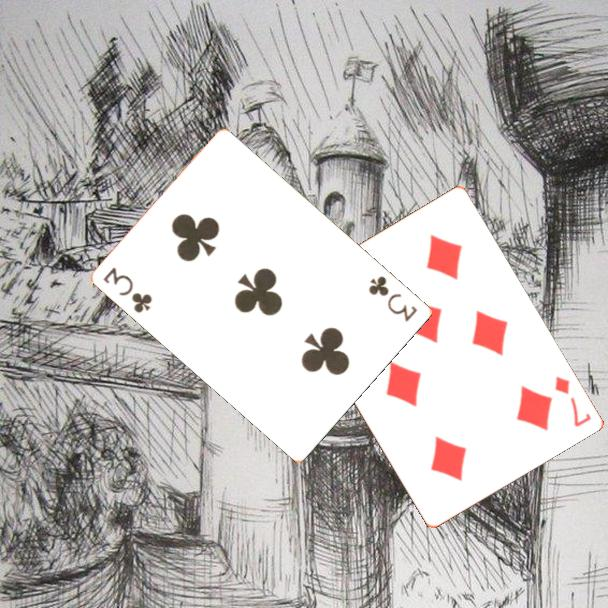c03: (365, 272, 421, 325), (100, 264, 156, 316)
d07: (551, 373, 594, 430)
